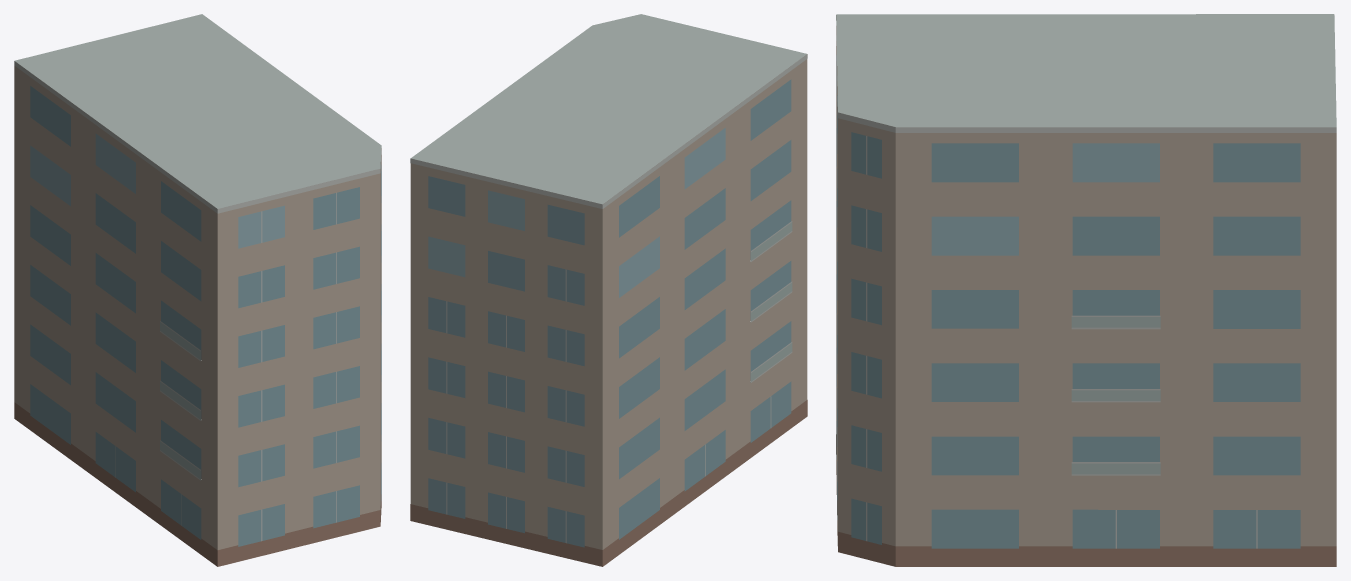
The model's file is survey-upis-32906232.glb.
The picture shows the model from 3 angles, left to right: view 1: azimuth 30°, elevation 25°; view 2: azimuth 150°, elevation 25°; view 3: azimuth 270°, elevation 25°; orthographic projection. The views are drawn at different scales.
Parts seen in each view (by area): view 1: survey-upis-32906232.tmp; view 2: survey-upis-32906232.tmp; view 3: survey-upis-32906232.tmp.
Boxes of the visible parts, x1,y1,x2,y2 form: survey-upis-32906232.tmp: (14, 14, 381, 566); survey-upis-32906232.tmp: (410, 14, 807, 566); survey-upis-32906232.tmp: (836, 14, 1336, 566).
Bounding box in the file's own units: 10.27 × 18.5 × 19.09.
